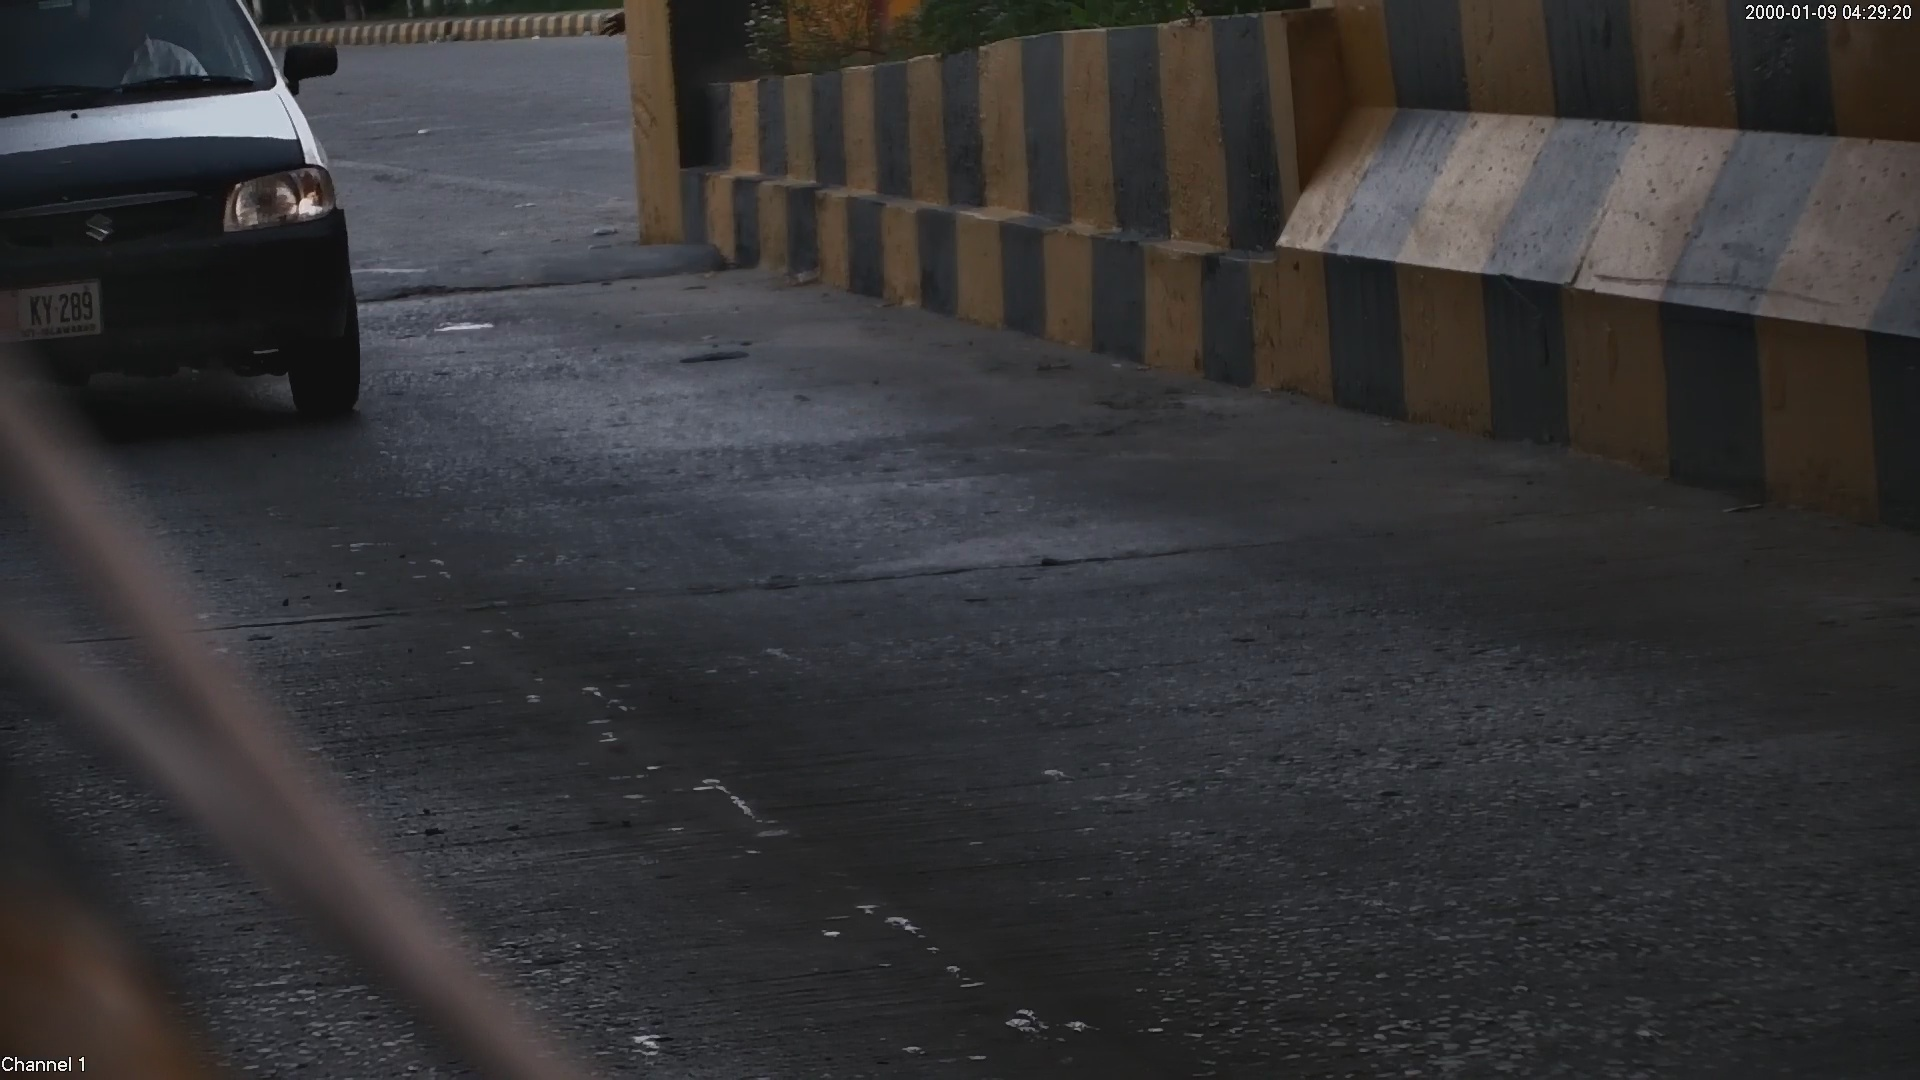Number_Plate: (8, 277, 110, 340)
